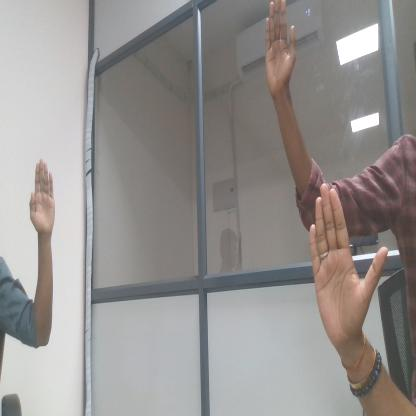Stop: (295, 172, 391, 355), (256, 0, 309, 107), (26, 155, 70, 252)
